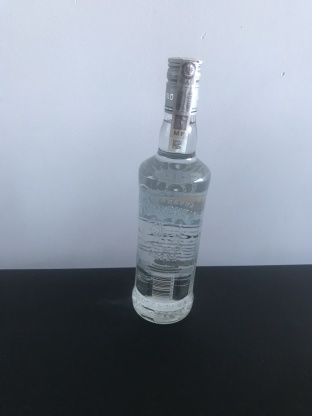nakretka: (162, 52, 206, 116)
